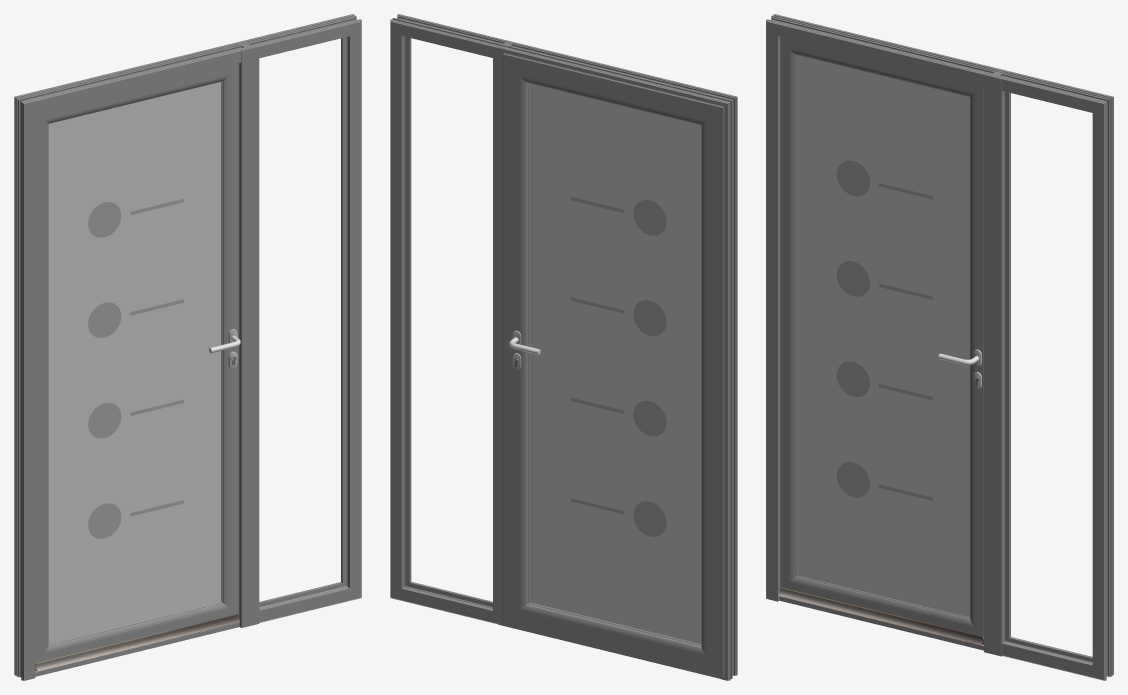
The picture shows the model from 3 angles, left to right: view 1: azimuth 30°, elevation 25°; view 2: azimuth 150°, elevation 25°; view 3: azimuth 330°, elevation 25°; orthographic projection.
Parts seen in each view (by area): view 1: fosco_10, aroFixo, aroMovel, montanteCentral, transparente_10, bite, borracha, escovas, rodaPe; view 2: fosco_10, aroMovel, aroFixo, bite, transparente_10, montanteCentral, borracha, rodaPe; view 3: fosco_10, aroFixo, aroMovel, montanteCentral, transparente_10, bite, escovas, borracha, rodaPe.
Boxes of the visible parts, bbox=[...] form: fosco_10: bbox=[48, 82, 221, 643]; aroFixo: bbox=[14, 14, 361, 680]; aroMovel: bbox=[35, 63, 238, 663]; montanteCentral: bbox=[238, 42, 259, 627]; transparente_10: bbox=[88, 199, 183, 538]; bite: bbox=[259, 37, 346, 607]; borracha: bbox=[259, 37, 345, 606]; escovas: bbox=[35, 614, 240, 671]; rodaPe: bbox=[35, 622, 239, 676]; fosco_10: bbox=[529, 83, 701, 644]; aroMovel: bbox=[503, 53, 724, 677]; aroFixo: bbox=[390, 14, 737, 680]; bite: bbox=[396, 29, 498, 617]; transparente_10: bbox=[571, 197, 666, 536]; montanteCentral: bbox=[498, 40, 518, 626]; borracha: bbox=[404, 36, 492, 608]; rodaPe: bbox=[505, 624, 721, 679]; fosco_10: bbox=[797, 55, 969, 617]; aroFixo: bbox=[766, 14, 1113, 680]; aroMovel: bbox=[780, 37, 983, 638]; montanteCentral: bbox=[984, 70, 1004, 656]; transparente_10: bbox=[836, 160, 932, 500]; bite: bbox=[1005, 91, 1092, 661]; escovas: bbox=[778, 587, 983, 645]; borracha: bbox=[1006, 92, 1092, 660]; rodaPe: bbox=[779, 596, 983, 650].
Size of the model in its own units: 1320 by 2149 by 185.
10 materials, 4 textured.
